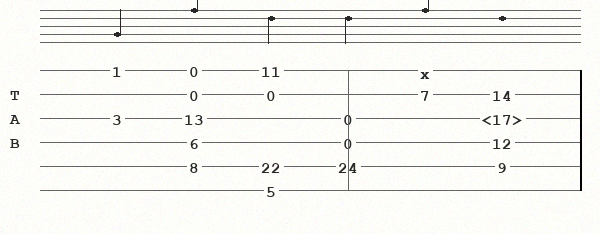0: (189, 87, 203, 101), (189, 63, 203, 77), (266, 87, 280, 101), (343, 135, 357, 149), (343, 111, 357, 125)
1: (112, 63, 126, 77)
11: (261, 63, 285, 77)
12: (492, 135, 516, 149)
13: (184, 111, 208, 125)
14: (492, 87, 516, 101)
22: (261, 159, 285, 173)
24: (338, 159, 362, 173)
3: (112, 111, 126, 125)
5: (266, 183, 280, 197)
6: (189, 135, 203, 149)
7: (420, 87, 434, 101)
8: (189, 159, 203, 173)
9: (497, 159, 511, 173)
harmonic: (482, 111, 527, 125)
x: (420, 65, 434, 76)
